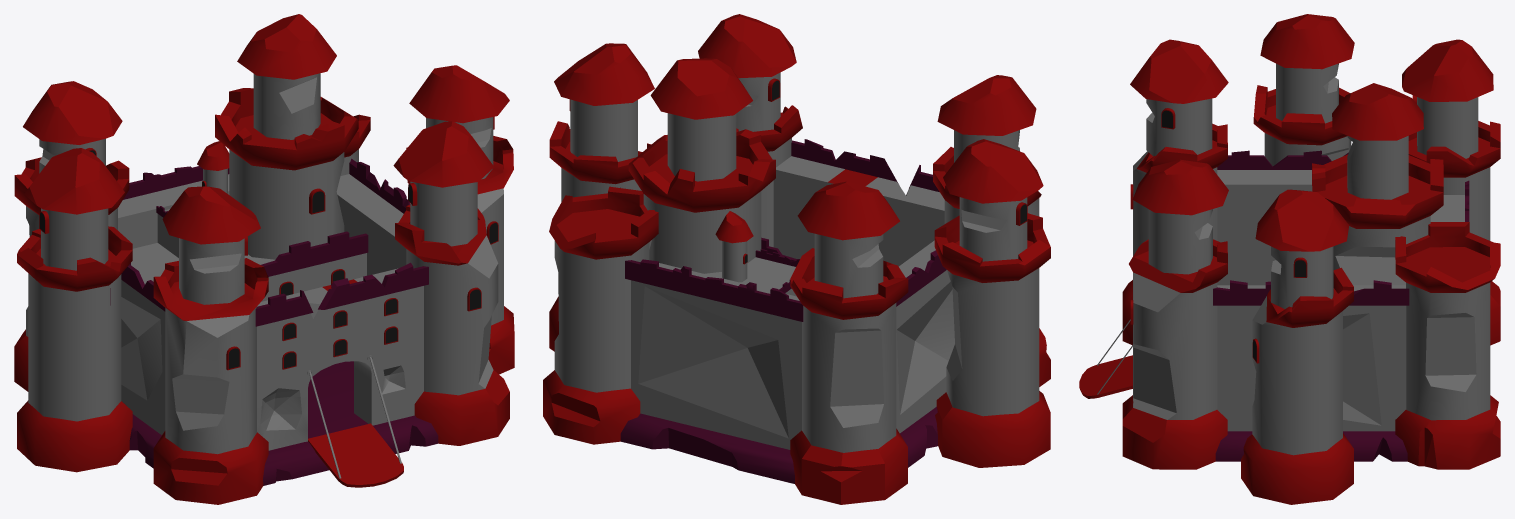
Rendered from Evil_Castle_UpgradeDouble_Stage2.fbx.
3 views of the same model, side by side, from view 1: azimuth 30°, elevation 25°; view 2: azimuth 150°, elevation 25°; view 3: azimuth 270°, elevation 25° (orthographic). The views are drawn at different scales.
Visible parts, largest first — view 1: Evil_Castle_UpgradeDouble_Stage_2; view 2: Evil_Castle_UpgradeDouble_Stage_2; view 3: Evil_Castle_UpgradeDouble_Stage_2.
Boxes of the visible parts, x1,y1,x2,y2 form: Evil_Castle_UpgradeDouble_Stage_2: [14, 14, 514, 504]; Evil_Castle_UpgradeDouble_Stage_2: [543, 14, 1050, 504]; Evil_Castle_UpgradeDouble_Stage_2: [1079, 14, 1500, 504].
Bounding box in the file's own units: 1191 × 806 × 927.
1 material, 1 textured.
